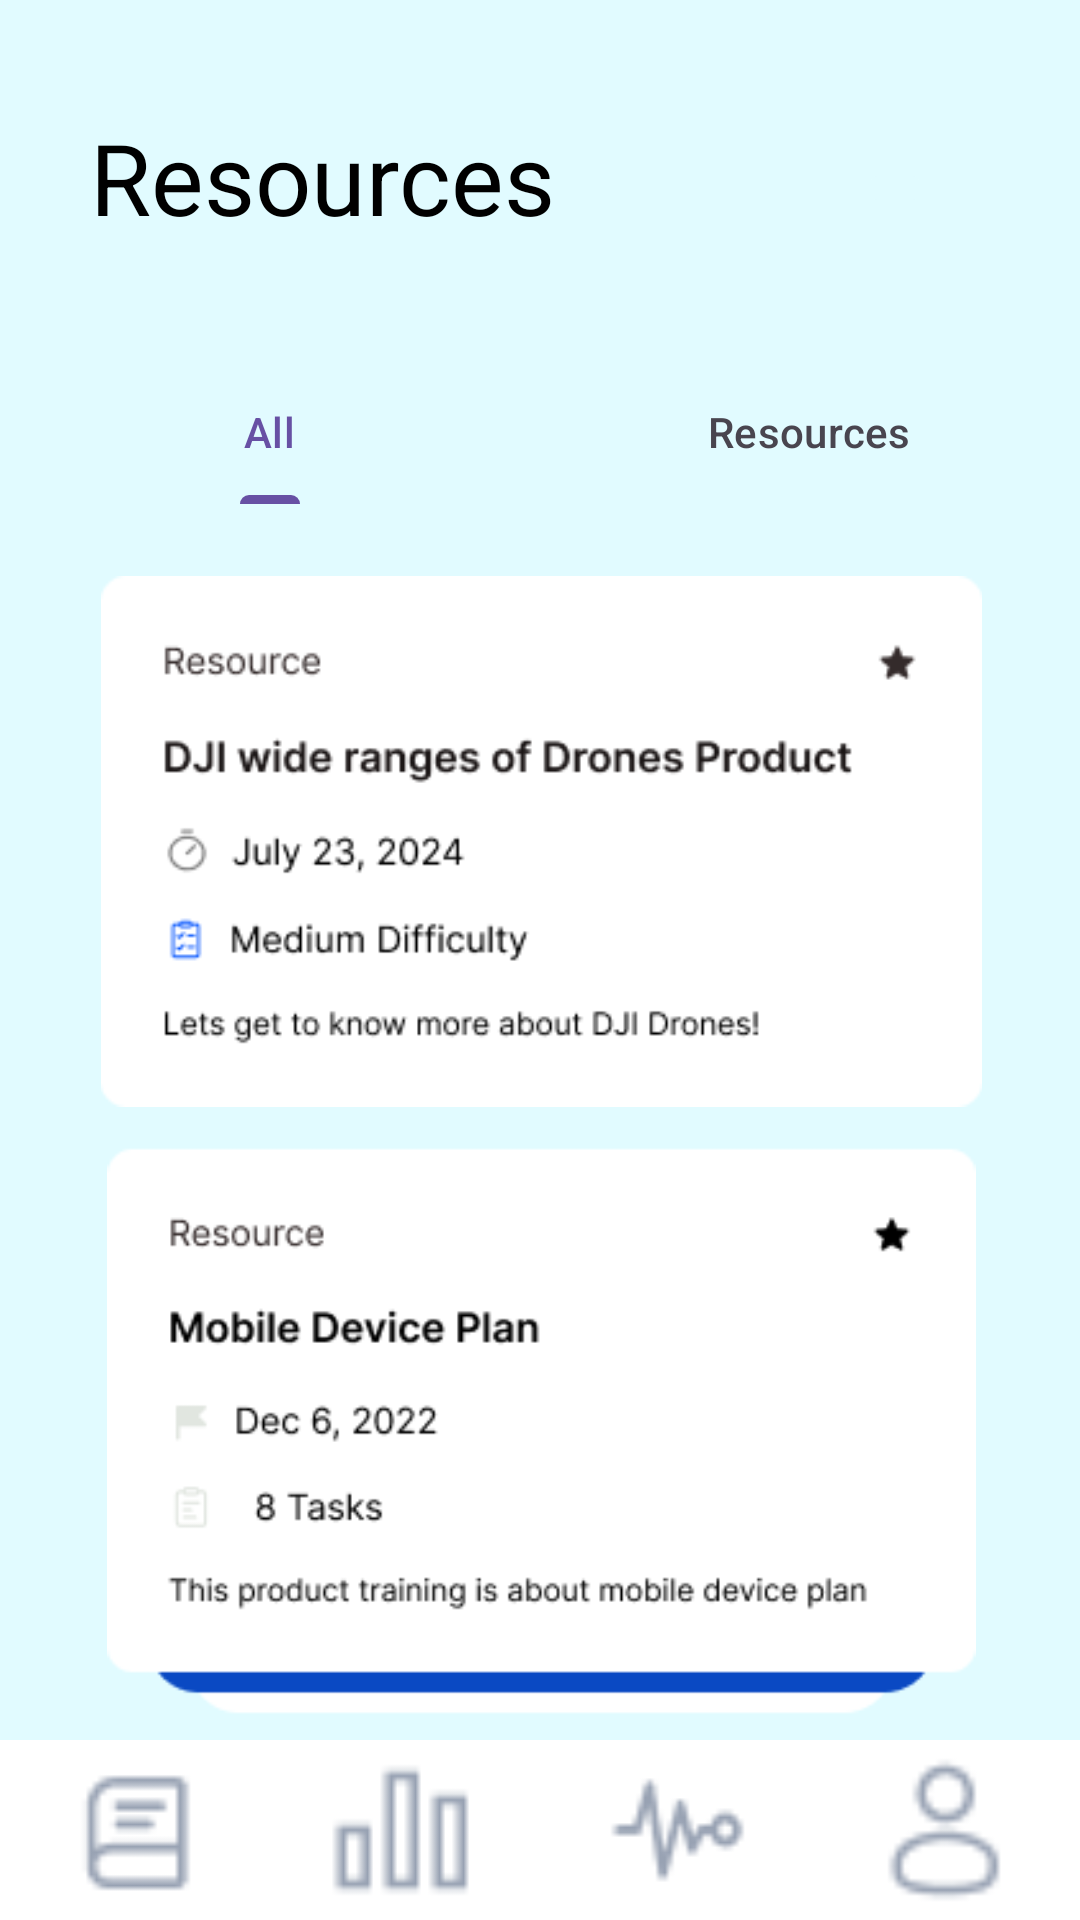

Where to tap for icons on this 1080*1920 app screen, as point (x, y):
aipitching: point (678, 1830)
book: point (137, 1833)
chart: point (401, 1830)
profile: point (945, 1830)
